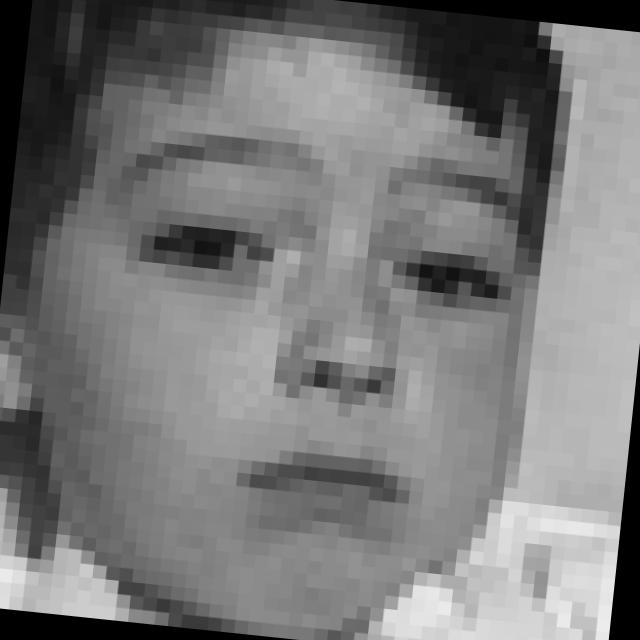sad: (70, 113, 528, 580)
